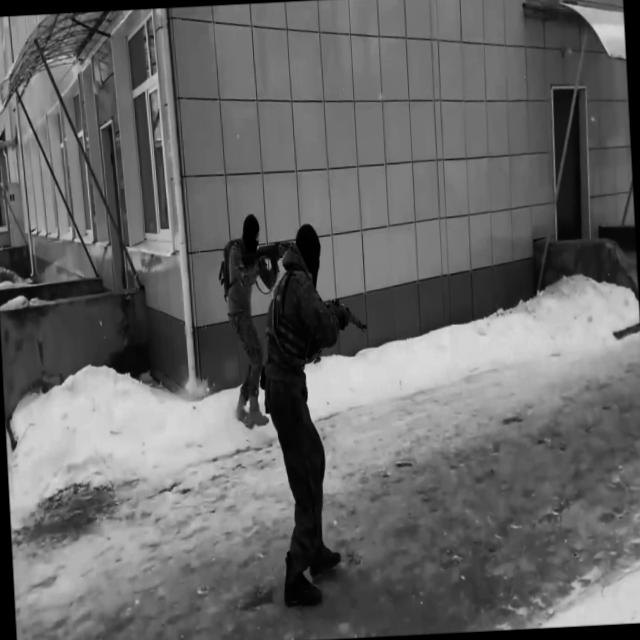gun: (320, 291, 370, 339), (241, 236, 298, 278)
person with a gun: (258, 221, 384, 609), (217, 210, 306, 432)
